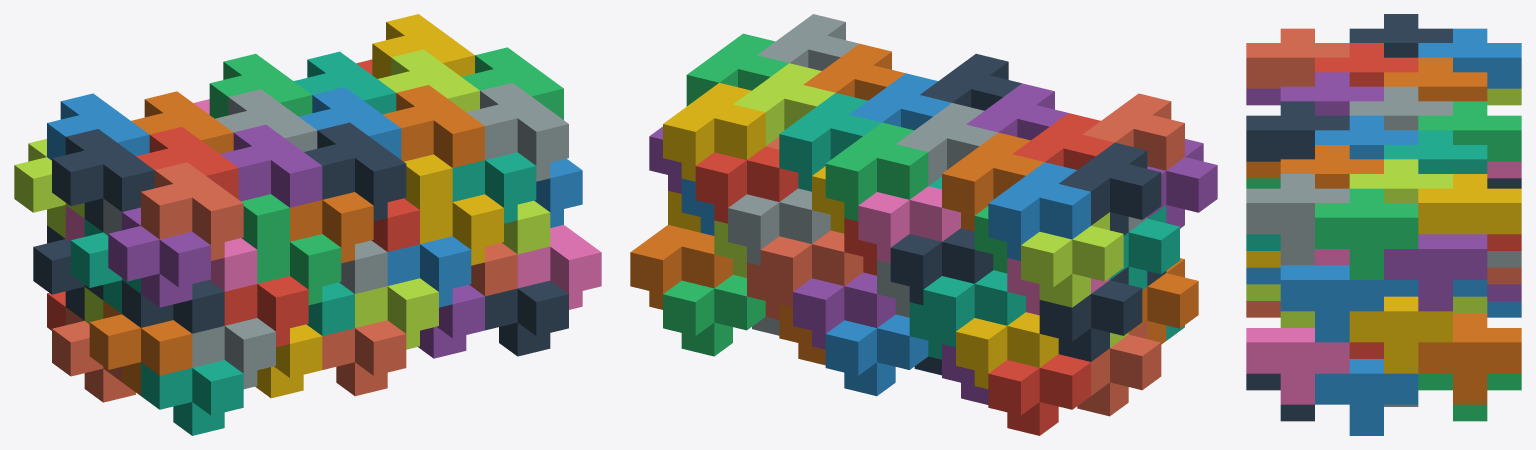
The model's file is tiling.obj.
3 renders of one model, left to right at view 1: azimuth 30°, elevation 25°; view 2: azimuth 150°, elevation 25°; view 3: azimuth 270°, elevation 25°, orthographic. The views are drawn at different scales.
Parts seen in each view (by area): view 1: copy_45, copy_92, copy_89, copy_93, copy_94, copy_77, copy_78, copy_66, copy_79, copy_80, copy_81, copy_84 (+37 smaller); view 2: copy_15, copy_16, copy_14, copy_11, copy_1, copy_2, copy_3, copy_21, copy_45, copy_6, copy_31, copy_30 (+35 smaller); view 3: copy_63, copy_6, copy_74, copy_29, copy_84, copy_16, copy_94, copy_40, copy_50, copy_93, copy_92, copy_15 (+33 smaller).
Part boxes in pixels (x1,y1,x2,y2): copy_45: [52, 129, 154, 231]; copy_92: [141, 162, 243, 260]; copy_89: [108, 207, 210, 307]; copy_93: [304, 122, 406, 221]; copy_94: [466, 83, 568, 181]; copy_77: [220, 124, 322, 207]; copy_78: [383, 85, 484, 167]; copy_66: [89, 301, 192, 395]; copy_79: [141, 360, 243, 435]; copy_80: [322, 320, 406, 396]; copy_81: [485, 280, 568, 356]; copy_84: [517, 225, 601, 309]; copy_15: [825, 122, 928, 221]; copy_16: [663, 83, 765, 181]; copy_14: [988, 162, 1090, 260]; copy_11: [1021, 212, 1123, 307]; copy_1: [988, 354, 1090, 435]; copy_2: [825, 314, 928, 396]; copy_3: [663, 274, 765, 356]; copy_21: [1039, 266, 1142, 361]; copy_45: [1059, 142, 1161, 235]; copy_6: [630, 225, 732, 309]; copy_31: [779, 93, 881, 191]; copy_30: [942, 132, 1044, 231]; copy_63: [1315, 188, 1418, 279]; copy_6: [1418, 313, 1521, 404]; copy_74: [1280, 265, 1383, 342]; copy_29: [1384, 234, 1487, 311]; copy_84: [1246, 328, 1349, 404]; copy_16: [1418, 174, 1521, 234]; copy_94: [1246, 174, 1349, 265]; copy_40: [1349, 296, 1452, 373]; copy_50: [1315, 359, 1418, 435]; copy_93: [1246, 101, 1349, 161]; copy_92: [1246, 28, 1349, 88]; copy_15: [1418, 101, 1521, 161].
Size of the model in its own units: 14 by 7 by 8.
